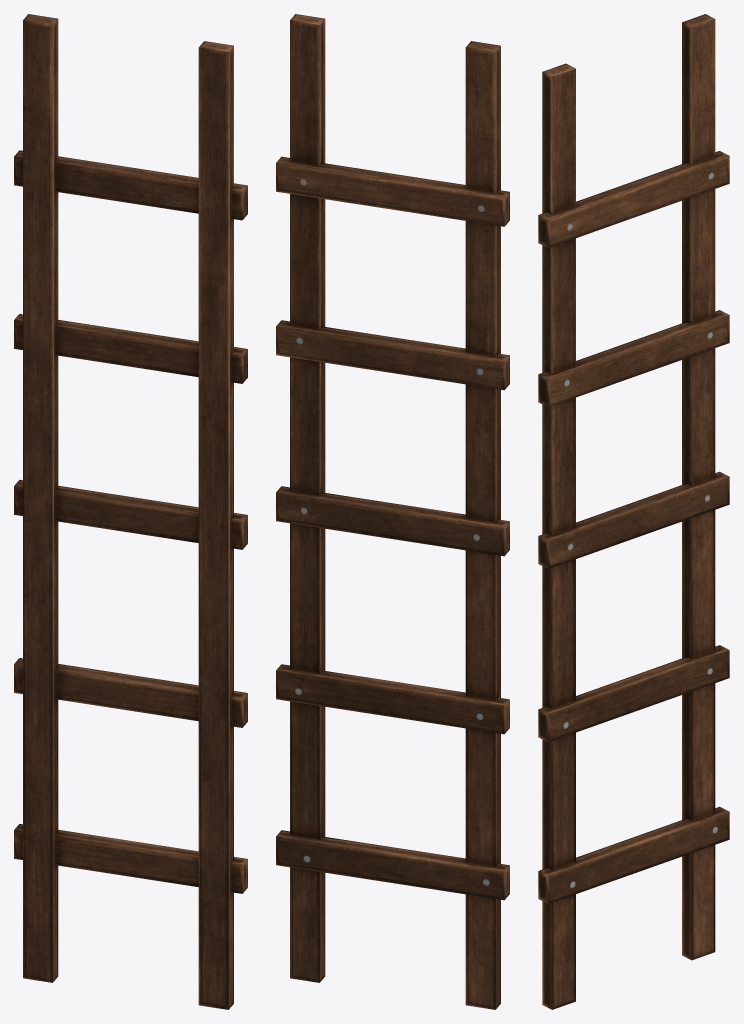
File: Ladder_1.glb
The picture shows the model from 3 angles, left to right: view 1: azimuth 30°, elevation 25°; view 2: azimuth 210°, elevation 25°; view 3: azimuth 270°, elevation 25°; orthographic projection. The views are drawn at different scales.
Visible parts, largest first — view 1: ladder01_Ladder_0; view 2: ladder01_Ladder_0; view 3: ladder01_Ladder_0.
Part boxes in pixels (x1,y1,x2,y2): ladder01_Ladder_0: [14, 14, 247, 1009]; ladder01_Ladder_0: [276, 14, 509, 1009]; ladder01_Ladder_0: [538, 14, 729, 1009].
Bounding box in the file's own units: 0.3187 × 2 × 0.3717.
Materials: 1 (1 with a texture image).
